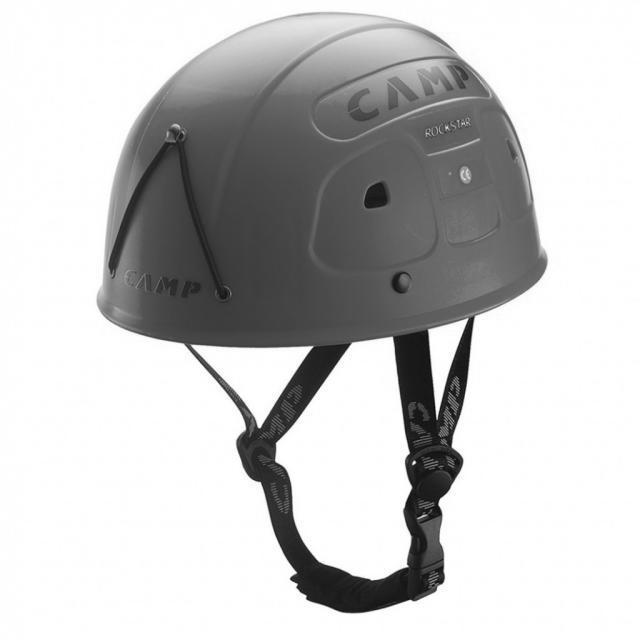safety_helmet: (94, 12, 550, 351)
